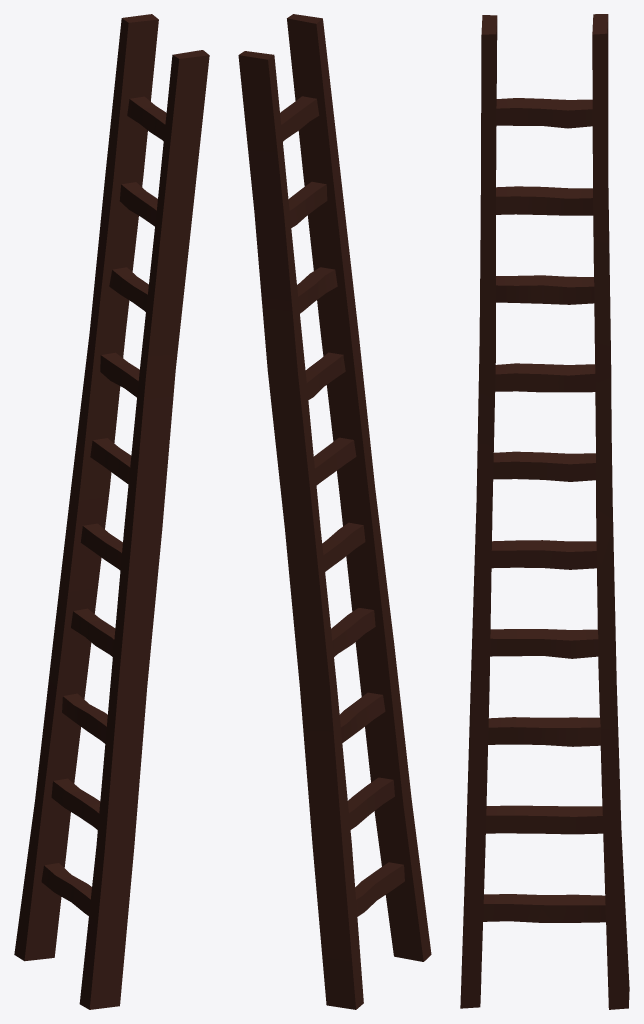
Rendered from ladder_1.FBX.
3 views of the same model, side by side, from view 1: azimuth 30°, elevation 25°; view 2: azimuth 150°, elevation 25°; view 3: azimuth 270°, elevation 25° (orthographic). The views are drawn at different scales.
Parts seen in each view (by area): view 1: ladder_1; view 2: ladder_1; view 3: ladder_1.
Part boxes in pixels (left/top/right/bottom): ladder_1: left=14, top=14, right=209, bottom=1009; ladder_1: left=238, top=14, right=431, bottom=1009; ladder_1: left=460, top=14, right=629, bottom=1009.
Size of the model in its own units: 123 by 831 by 123.
